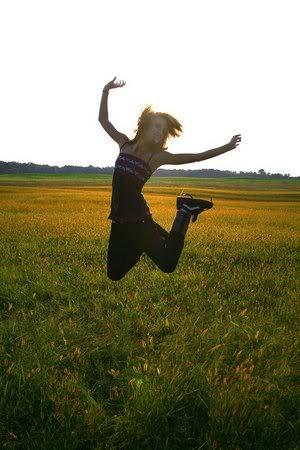person: (98, 74, 241, 284)
